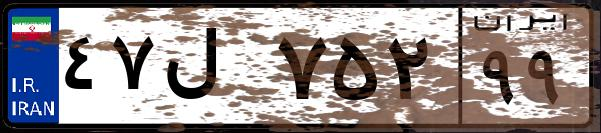2: (385, 28, 445, 110)
4: (57, 26, 110, 100)
5: (330, 28, 385, 110)
7: (270, 28, 330, 110), (110, 28, 158, 98)
9: (475, 38, 525, 113), (525, 38, 570, 115)
ل: (158, 20, 270, 120)
